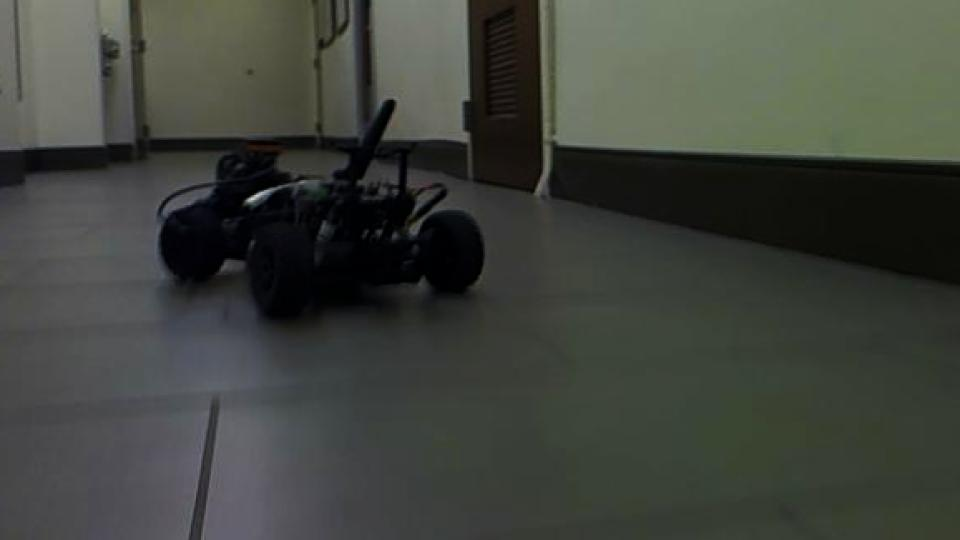car: (154, 95, 488, 322)
